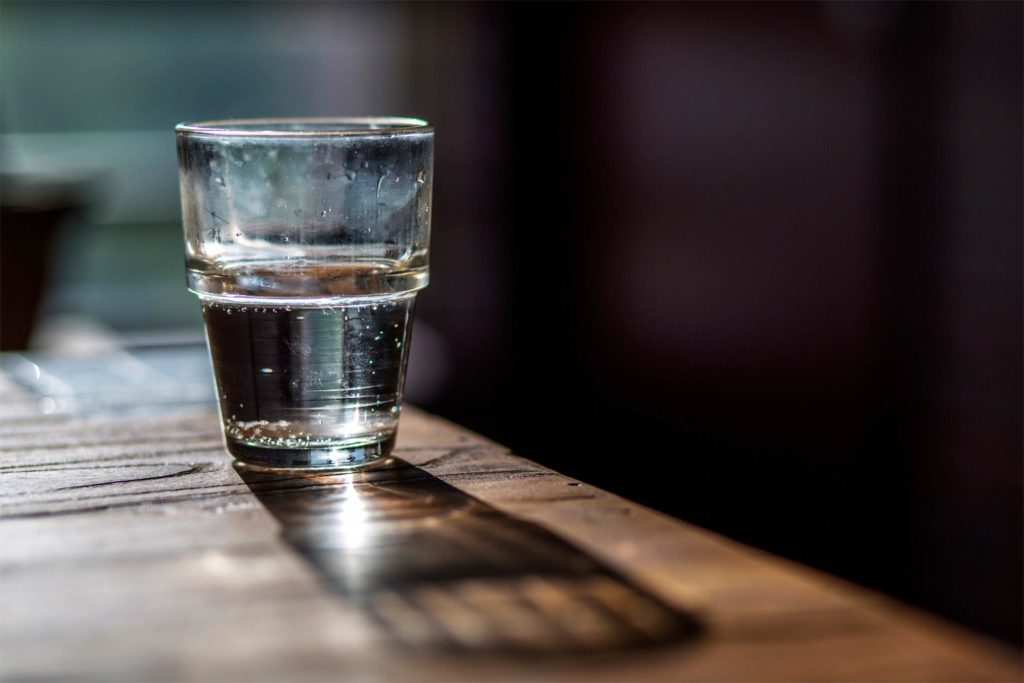glass of water: (176, 101, 439, 476)
